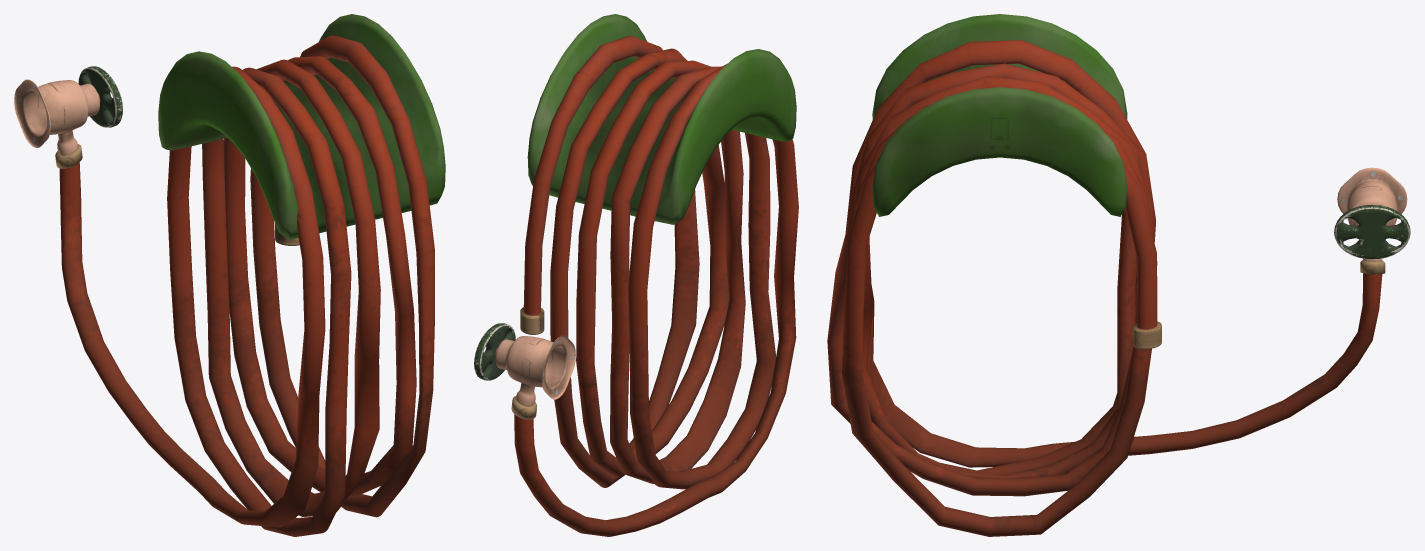
File: domestic_hose_unit.glb
The picture shows the model from 3 angles, left to right: view 1: azimuth 30°, elevation 25°; view 2: azimuth 150°, elevation 25°; view 3: azimuth 270°, elevation 25°; orthographic projection. The views are drawn at different scales.
Parts seen in each view (by area): view 1: Wrap Structure; view 2: Wrap Structure; view 3: Wrap Structure.
Boxes of the visible parts, x1=… form: Wrap Structure: x1=14, y1=14, x2=445, y2=536; Wrap Structure: x1=474, y1=14, x2=798, y2=536; Wrap Structure: x1=827, y1=14, x2=1410, y2=536.
Bounding box in the file's own units: 210 × 574 × 653.
Materials: 1 (1 with a texture image).
